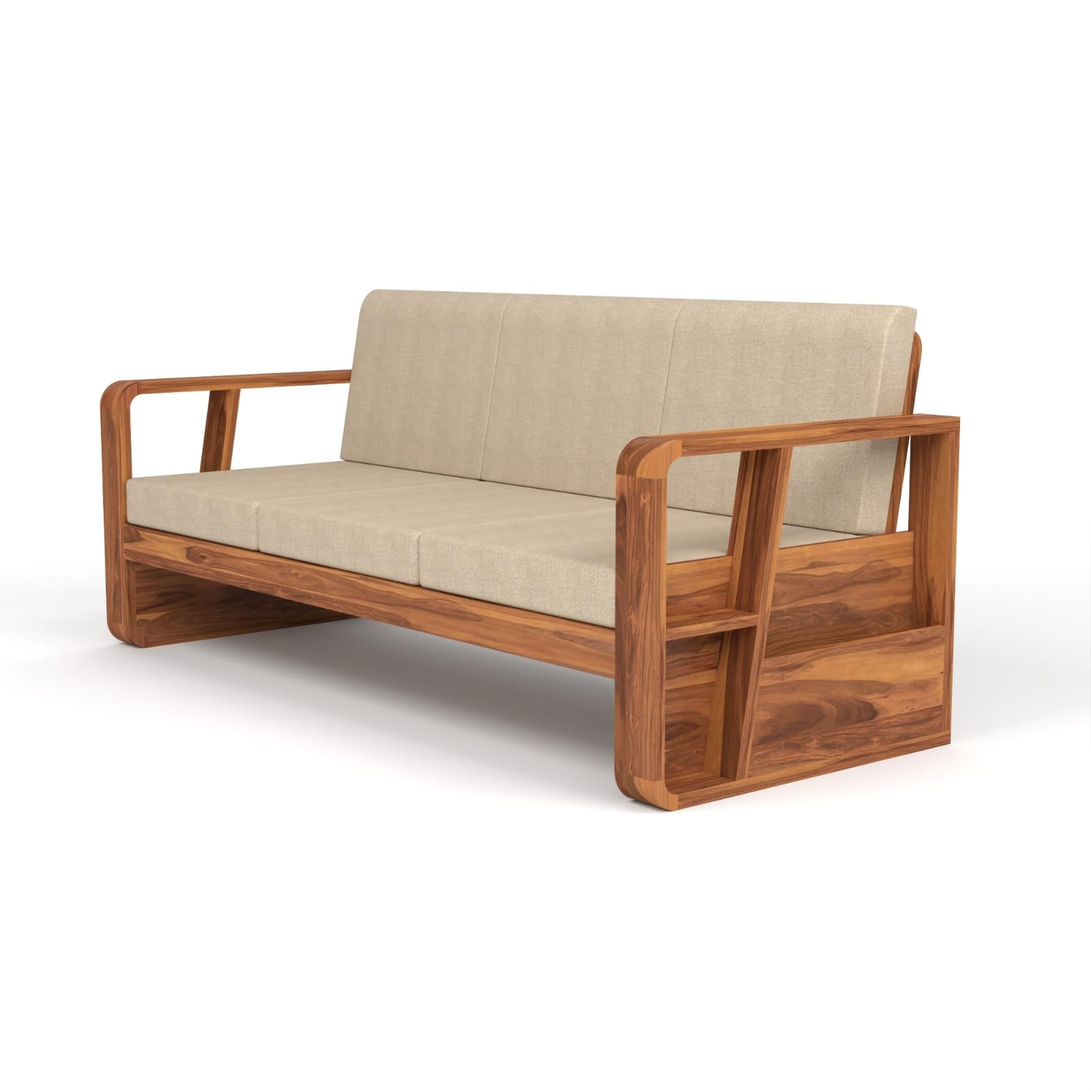3seatersofa: (101, 290, 959, 810)
backrest: (342, 290, 915, 500), (785, 440, 895, 533), (668, 454, 738, 514)
base: (121, 525, 614, 677)
leftarmrest: (615, 411, 961, 806)
rightarmrest: (97, 368, 348, 643)
